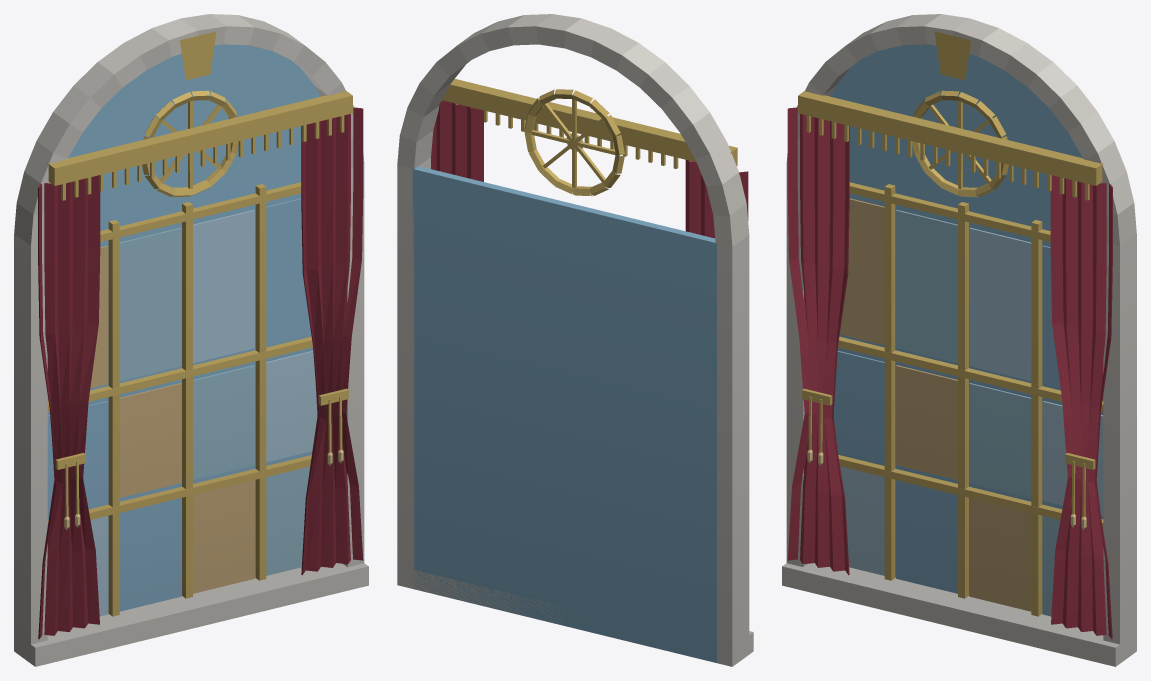
File: palace_window_grand.glb
3 views of the same model, side by side, from view 1: azimuth 30°, elevation 25°; view 2: azimuth 150°, elevation 25°; view 3: azimuth 330°, elevation 25° (orthographic).
Visible parts, largest first — view 1: palace_window_grand; view 2: palace_window_grand; view 3: palace_window_grand.
Boxes of the visible parts, box(x1,y1,x2,y2) form: palace_window_grand: box(14, 14, 368, 666); palace_window_grand: box(397, 14, 753, 666); palace_window_grand: box(782, 14, 1136, 666).
Bounding box in the file's own units: 2.18 × 3.7 × 0.276.
